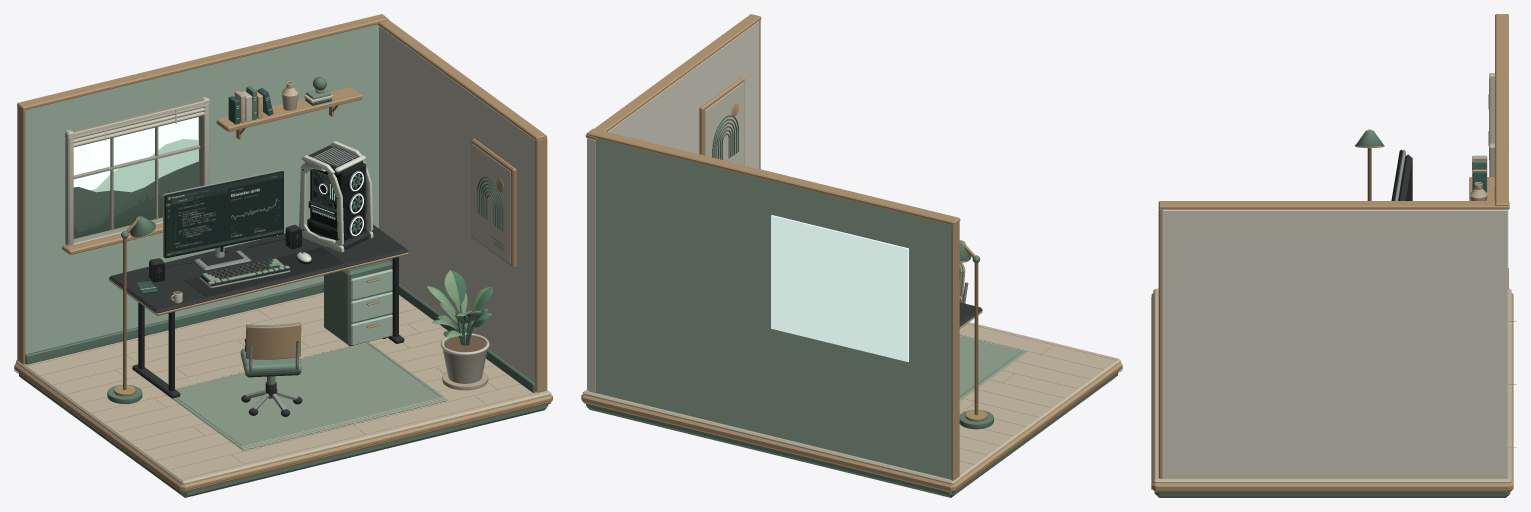
Rendered from workroom.glb.
3 renders of one model, left to right at view 1: azimuth 30°, elevation 25°; view 2: azimuth 150°, elevation 25°; view 3: azimuth 270°, elevation 25°, orthographic. The views are drawn at different scales.
Visible parts, largest first — view 1: Workroom; view 2: Workroom; view 3: Workroom.
Boxes of the visible parts, x1,y1,x2,y2 form: Workroom: [14, 14, 552, 497]; Workroom: [581, 14, 1122, 497]; Workroom: [1151, 14, 1516, 497].
Size of the model in its own units: 8.52 by 6.04 by 6.78.
37 materials, 1 textured.
